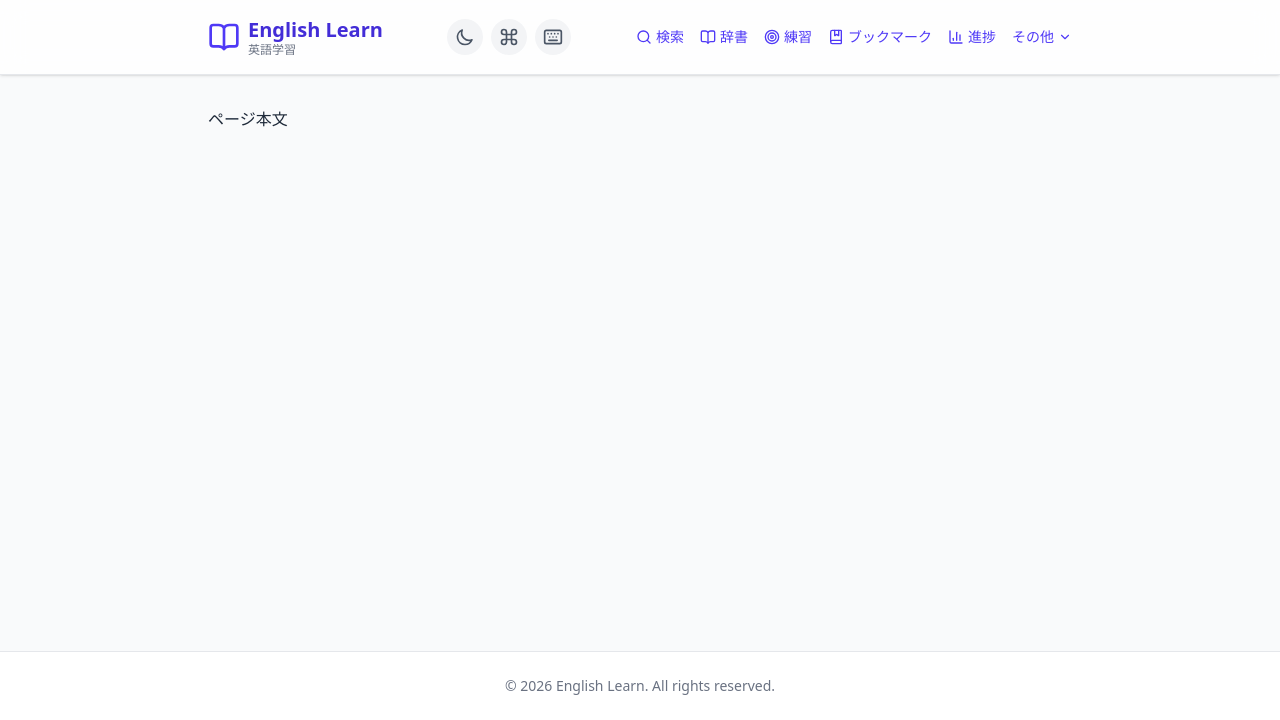
Test case: Layout › renders a dark-mode toggle button with an accessible name that toggles on click
Click the button named "ダークモードに切り替え": coordinates (466, 37) [448, 19, 484, 55]
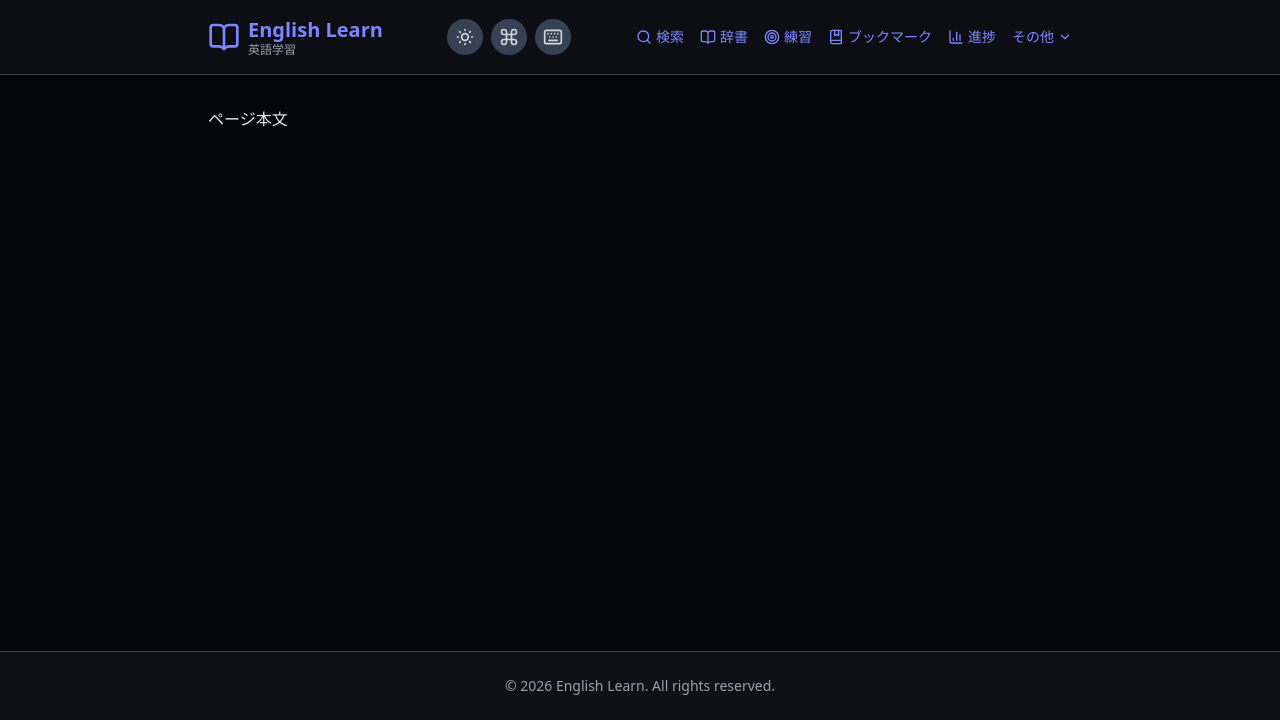
Check: the button named "ライトモードに切り替え" is shown, box [448, 19, 484, 55]
